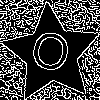O: (26, 29, 73, 83)
